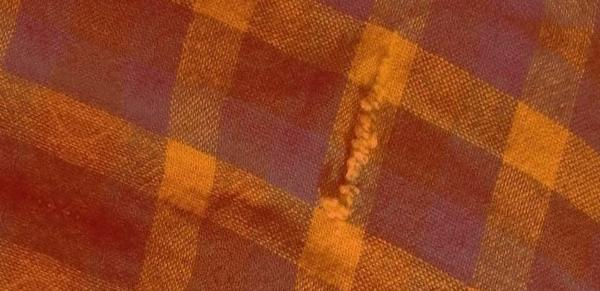knot: (313, 36, 407, 233)
